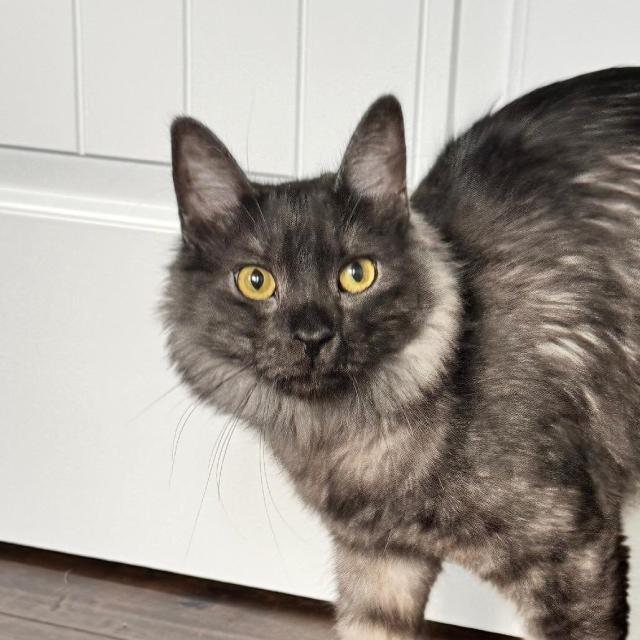maine_coon_cat: (141, 79, 515, 461)
